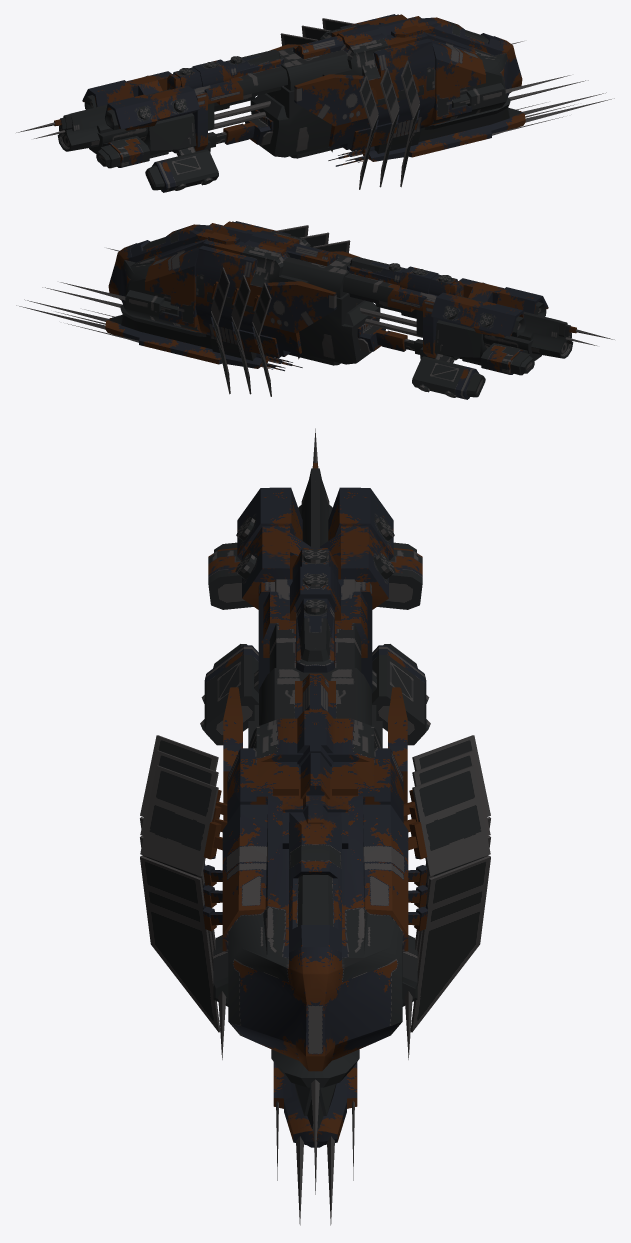
Rendered from thrasher.glb.
3 views of the same model, one above another, from view 1: azimuth 30°, elevation 25°; view 2: azimuth 150°, elevation 25°; view 3: azimuth 270°, elevation 25° (orthographic). The views are drawn at different scales.
Visible parts, largest first — view 1: Thrasher; view 2: Thrasher; view 3: Thrasher.
Boxes of the visible parts, x1,y1,x2,y2 form: Thrasher: (16,14,614,192); Thrasher: (16,221,614,399); Thrasher: (140,428,490,1225).
Size of the model in its own units: 267 by 61.98 by 67.72.
1 material, 1 textured.
